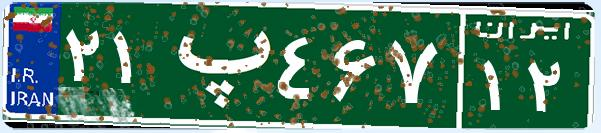1: (475, 38, 525, 113), (110, 28, 158, 105)
2: (57, 26, 110, 107), (525, 38, 570, 115)
4: (273, 28, 330, 110)
6: (330, 28, 385, 110)
7: (385, 28, 445, 110)
پ: (158, 15, 273, 115)
